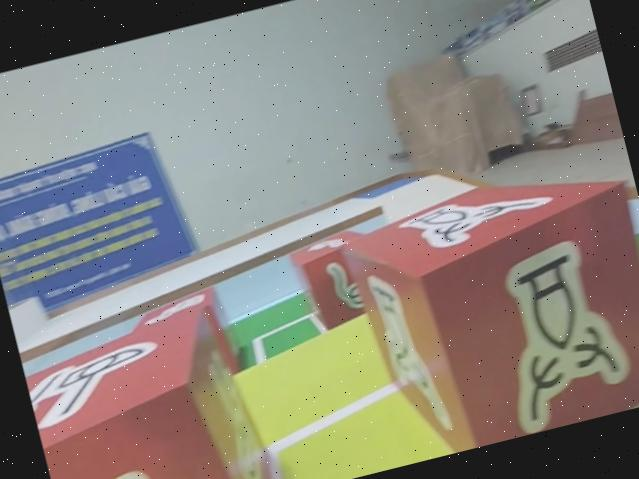R2 Real: (334, 147, 639, 467), (17, 294, 281, 479), (281, 219, 389, 340)
